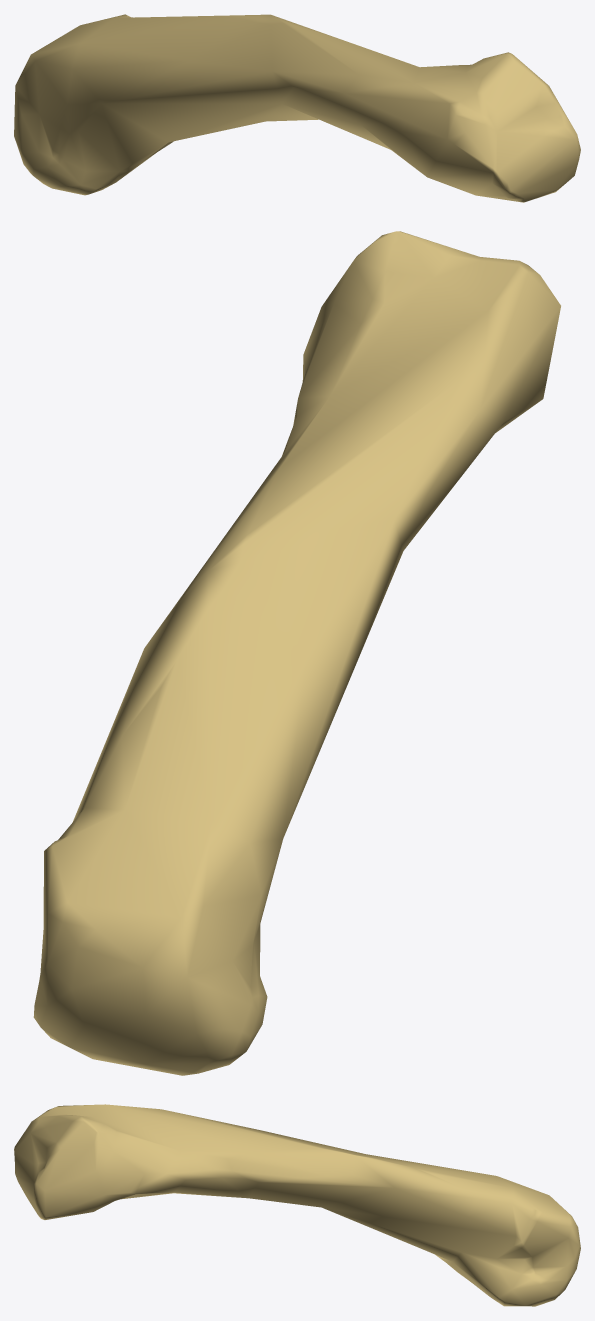
The picture shows the model from 3 angles, top to bottom: view 1: azimuth 30°, elevation 25°; view 2: azimuth 150°, elevation 25°; view 3: azimuth 270°, elevation 25°; orthographic projection. The views are drawn at different scales.
Parts seen in each view (by area): view 1: 左侧第五掌骨; view 2: 左侧第五掌骨; view 3: 左侧第五掌骨.
Boxes of the visible parts, x1,y1,x2,y2 form: 左侧第五掌骨: (14,14,580,202); 左侧第五掌骨: (33,231,560,1075); 左侧第五掌骨: (14,1104,580,1306).
Size of the model in its own units: 0.0308 by 0.0376 by 0.0839.
